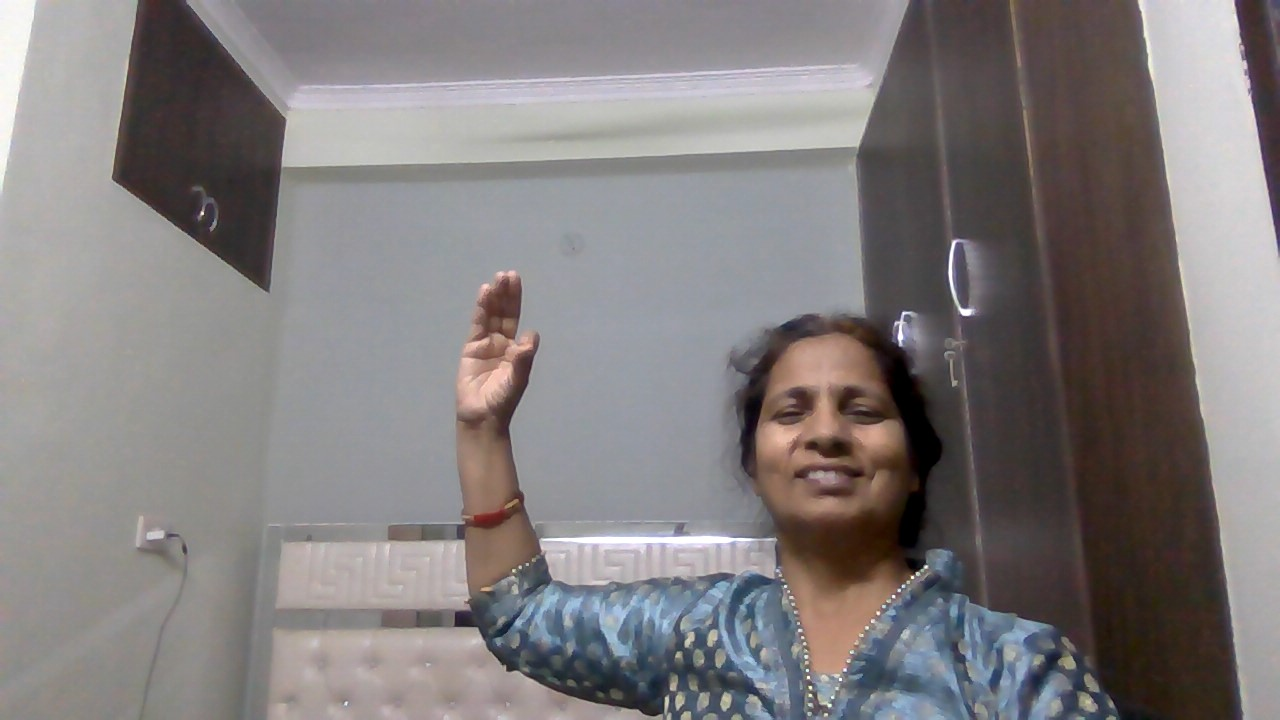Copy: (448, 266, 549, 441)
